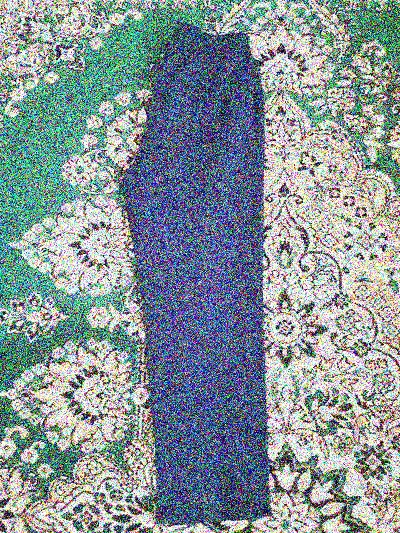Pants: (100, 21, 295, 518)
